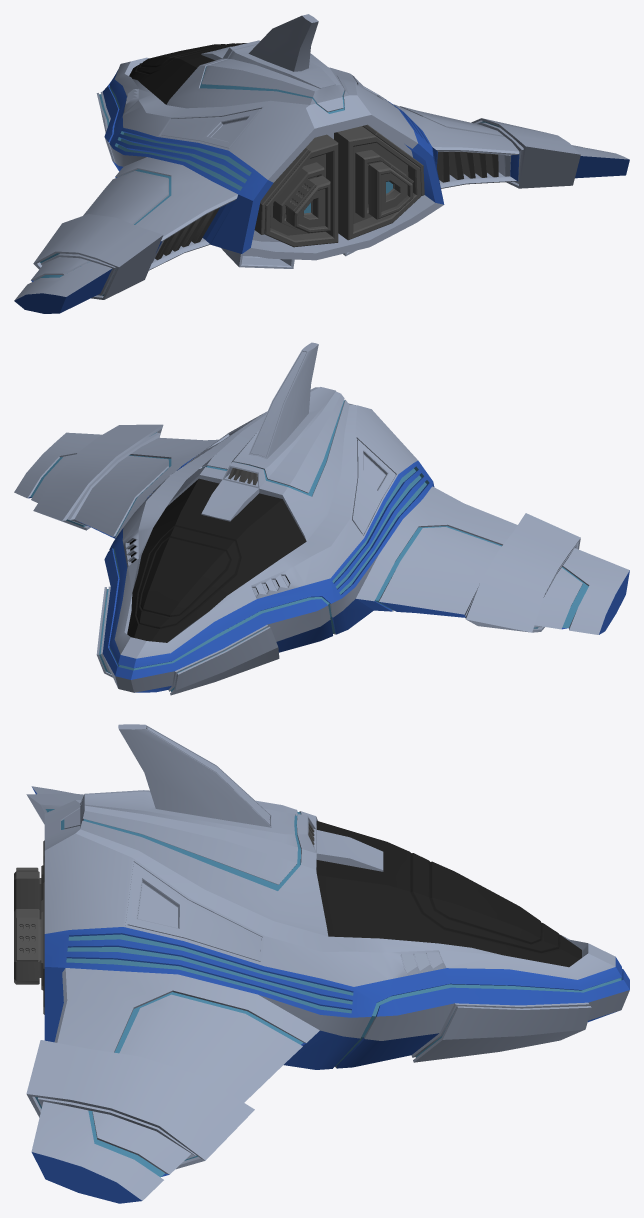
Rendered from Spaceship.fbx.
3 views of the same model, one above another, from view 1: azimuth 30°, elevation 25°; view 2: azimuth 150°, elevation 25°; view 3: azimuth 270°, elevation 25° (orthographic). The views are drawn at different scales.
Visible parts, largest first — view 1: Spaceship; view 2: Spaceship; view 3: Spaceship.
Part boxes in pixels (bbox=[...]): Spaceship: bbox=[14, 14, 629, 313]; Spaceship: bbox=[14, 342, 629, 695]; Spaceship: bbox=[14, 724, 629, 1203].
Size of the model in its own units: 14.39 by 5.58 by 9.87.
